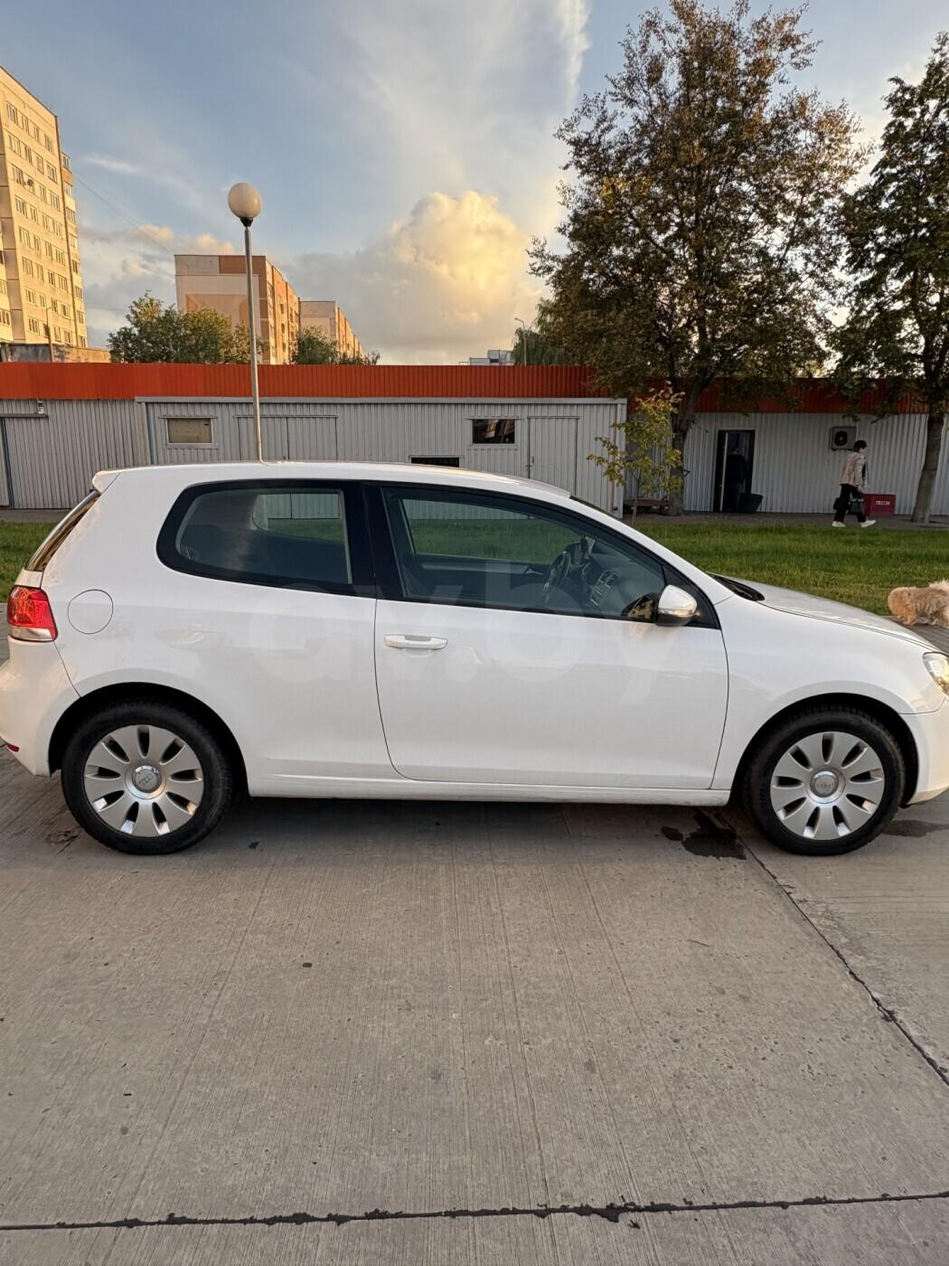Golf_2008-2013: (0, 455, 949, 877)
